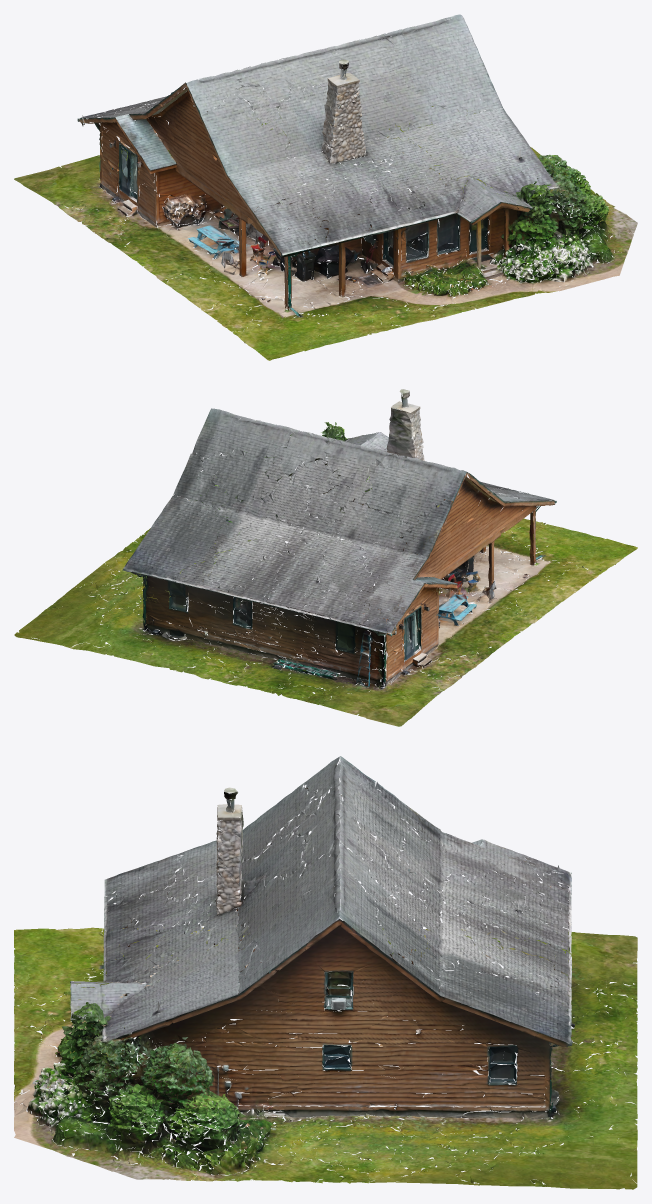
The model's file is Cabin.glb.
The picture shows the model from 3 angles, top to bottom: view 1: azimuth 30°, elevation 25°; view 2: azimuth 150°, elevation 25°; view 3: azimuth 270°, elevation 25°; orthographic projection. The views are drawn at different scales.
Visible parts, largest first — view 1: Mesh_0.076; view 2: Mesh_0.076; view 3: Mesh_0.076.
Part boxes in pixels (left/top/right/bottom): Mesh_0.076: left=14, top=14, right=637, bottom=360; Mesh_0.076: left=14, top=389, right=637, bottom=726; Mesh_0.076: left=14, top=756, right=637, bottom=1189.
Size of the model in its own units: 1.54 by 0.7144 by 1.63.
Materials: 1 (1 with a texture image).
